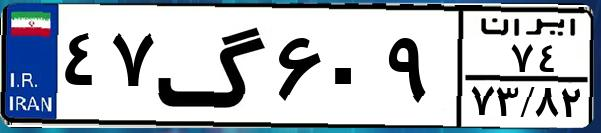0: (330, 28, 385, 110)
2: (560, 70, 590, 125)
3: (495, 70, 520, 125)
4: (57, 26, 110, 100), (537, 27, 568, 80)
6: (270, 28, 330, 110)
7: (110, 28, 156, 98), (508, 27, 537, 80), (470, 70, 495, 125)
8: (535, 70, 560, 125)
9: (385, 28, 445, 110)
گ: (156, 12, 270, 120)
